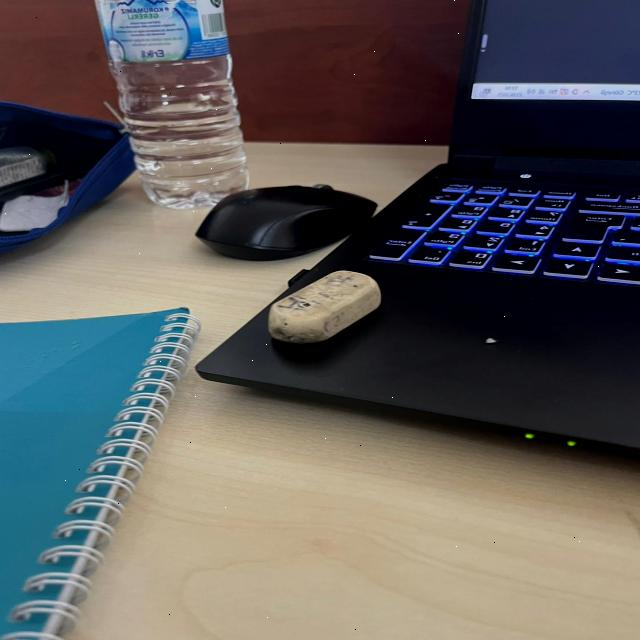eraser: (259, 256, 398, 350)
